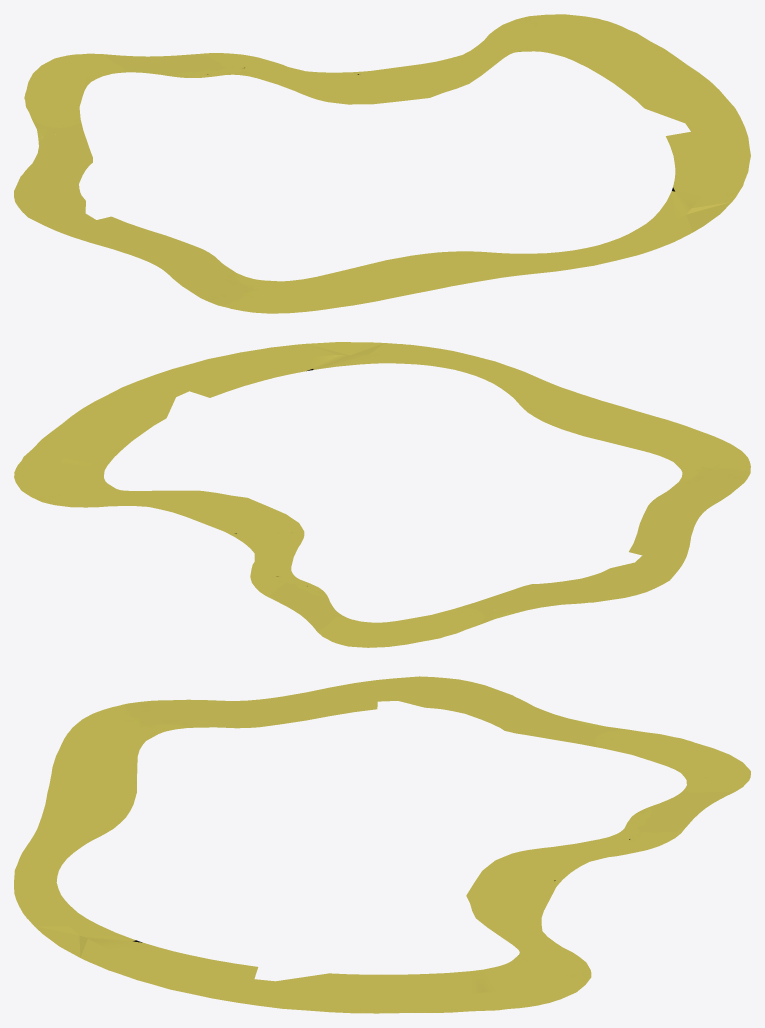
Rendered from sol.fbx.
3 renders of one model, top to bottom at view 1: azimuth 30°, elevation 25°; view 2: azimuth 150°, elevation 25°; view 3: azimuth 270°, elevation 25°, orthographic. The views are drawn at different scales.
Visible parts, largest first — view 1: Plane001; view 2: Plane001; view 3: Plane001.
Part boxes in pixels (<box>): Plane001: <box>14,14,750,313</box>; Plane001: <box>14,342,750,647</box>; Plane001: <box>14,676,750,1013</box>.
Size of the model in its own units: 830 by 11.44 by 767.
Materials: 1 (1 with a texture image).
